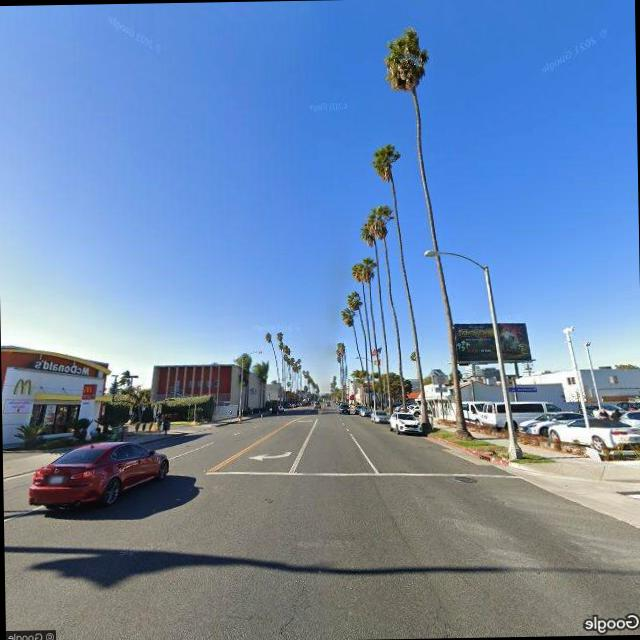pothole: (272, 595, 306, 640)
